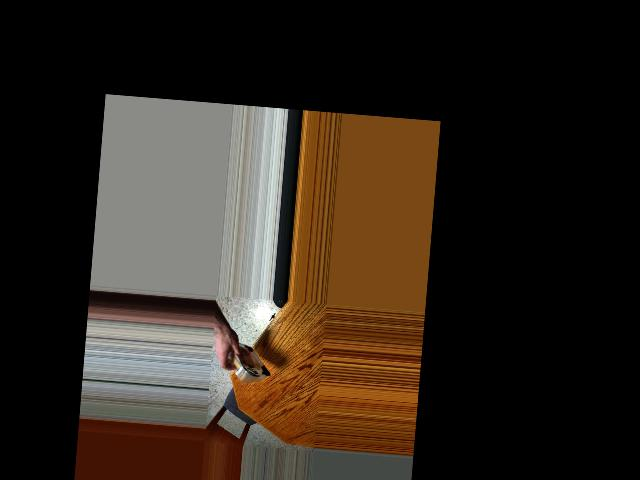cheese: (228, 330, 273, 391)
